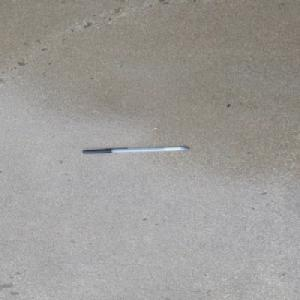Pen: (81, 145, 189, 154)
